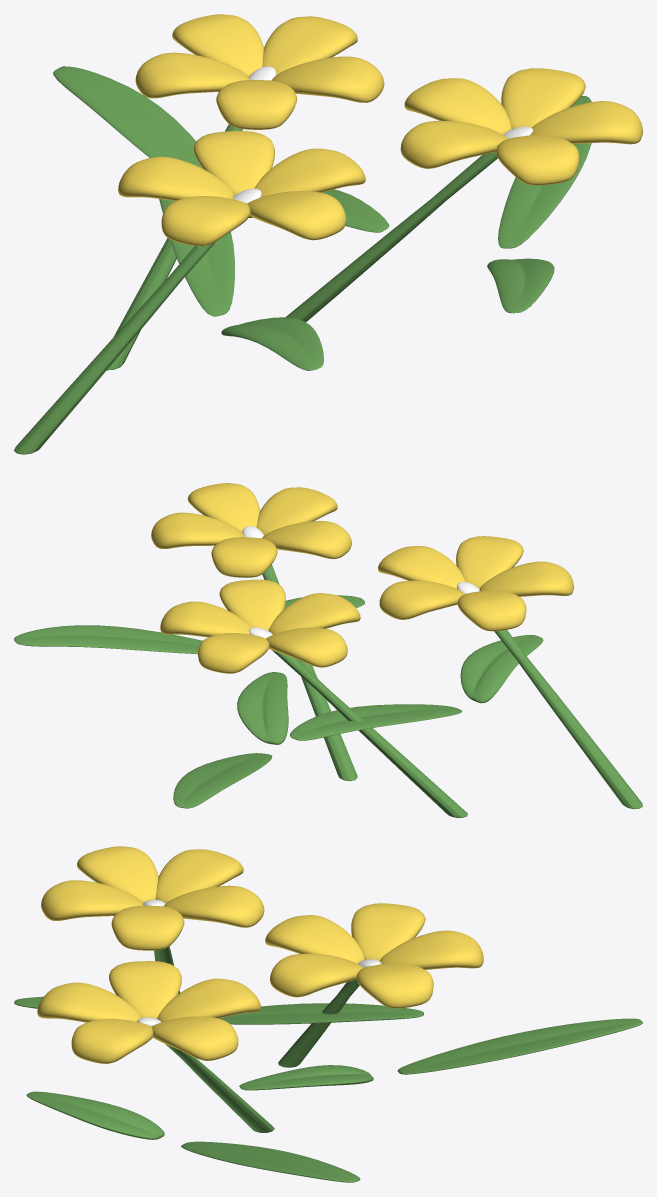
The model's file is flower_yellow.glb.
3 views of the same model, one above another, from view 1: azimuth 30°, elevation 25°; view 2: azimuth 150°, elevation 25°; view 3: azimuth 270°, elevation 25° (orthographic). The views are drawn at different scales.
Visible parts, largest first — view 1: Flower.002, Flower.003, Flower.001, Plane.005, Plane, Plane.004, Sphere.001, Sphere.003, Sphere.005; view 2: Flower.003, Flower.001, Flower.002, Plane, Plane.005, Plane.004, Sphere.001, Sphere.005, Sphere.003; view 3: Flower.001, Flower.003, Flower.002, Plane.005, Plane.004, Plane, Sphere.003, Sphere.005.
Part boxes in pixels (x1,y1,x2,y2): Flower.002: (400, 68, 642, 185); Flower.003: (135, 14, 384, 129); Flower.001: (118, 131, 365, 246); Plane.005: (53, 66, 389, 232); Plane: (159, 199, 323, 370); Plane.004: (487, 96, 591, 313); Sphere.001: (14, 241, 216, 454); Sphere.003: (285, 152, 497, 322); Sphere.005: (107, 124, 242, 370); Flower.003: (160, 579, 360, 673); Flower.001: (378, 536, 573, 631); Flower.002: (151, 483, 351, 577); Plane: (290, 635, 543, 740); Plane.005: (173, 672, 288, 808); Plane.004: (14, 595, 364, 654); Sphere.001: (494, 630, 642, 809); Sphere.005: (272, 650, 467, 817); Sphere.003: (262, 564, 357, 781); Flower.001: (41, 846, 264, 950); Flower.003: (265, 903, 483, 1008); Flower.002: (37, 961, 260, 1063); Plane.005: (239, 1018, 642, 1090); Plane.004: (26, 1091, 360, 1182); Plane: (14, 996, 424, 1024); Sphere.003: (165, 1044, 274, 1132); Sphere.005: (278, 979, 359, 1067).
Bounding box in the file's own units: 8.33 × 2.73 × 7.51.
